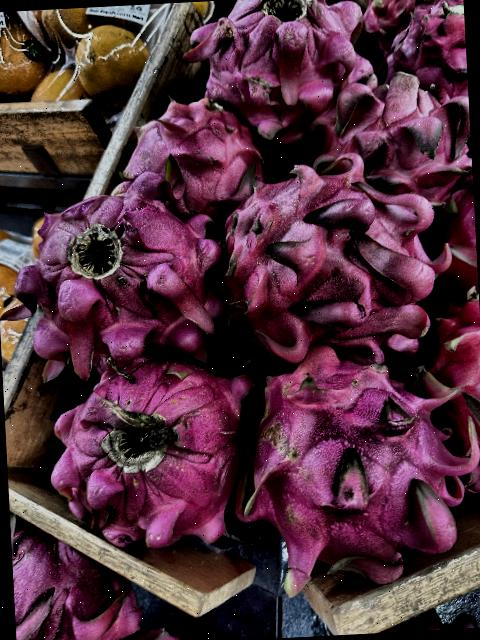buah-naga-matang: (229, 332, 480, 598), (214, 150, 452, 370), (34, 346, 264, 562), (14, 185, 225, 371), (176, 0, 376, 155), (306, 65, 472, 211), (117, 95, 272, 227), (388, 0, 468, 104)
